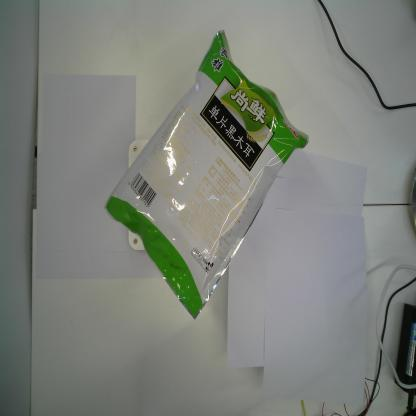Dried Food: (101, 25, 311, 324)
